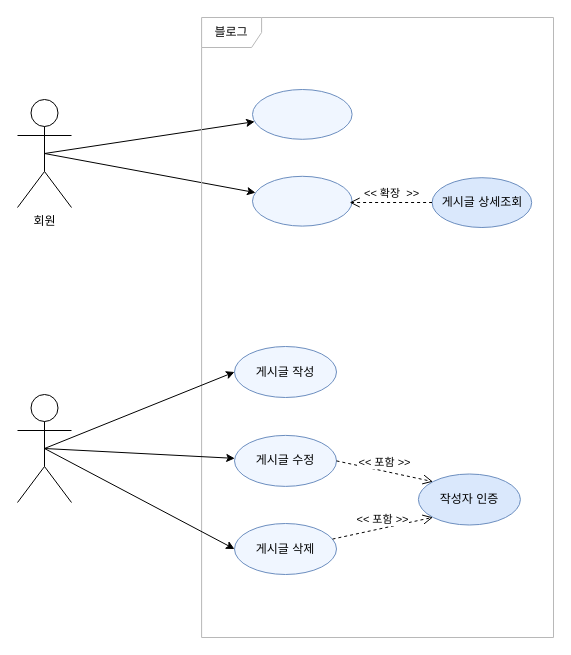
Image size: 571x655. Some labels were removed from this diagram. Here are the shapes that lost their labels. From the top down, the centre of each, then its label:
At point (302, 113): "회원가입".
At point (302, 200): "게시글 조회".
At point (44, 448): "비회원".
